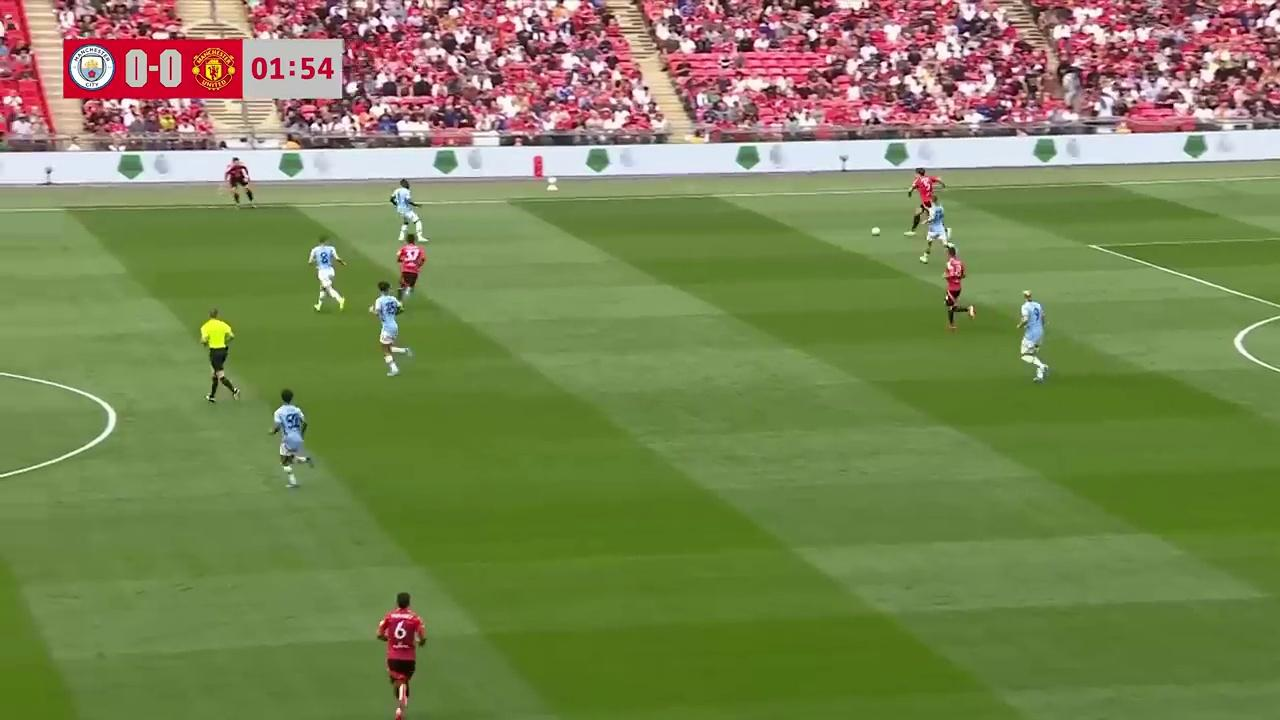ball: (869, 226, 882, 237)
player: (376, 591, 427, 718), (268, 389, 314, 490), (369, 283, 411, 377), (1016, 290, 1049, 381), (308, 237, 346, 313), (942, 247, 972, 332), (907, 164, 941, 235), (389, 180, 427, 241), (920, 197, 952, 261), (395, 235, 426, 299), (224, 155, 256, 209)
referee: (199, 308, 240, 403)
